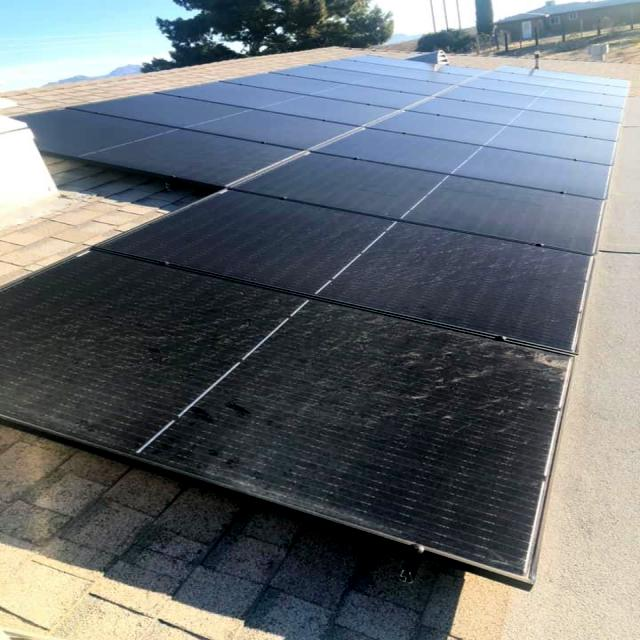dust: (322, 318, 576, 452), (39, 270, 250, 354), (370, 475, 547, 575), (162, 363, 308, 479), (361, 232, 554, 300)
